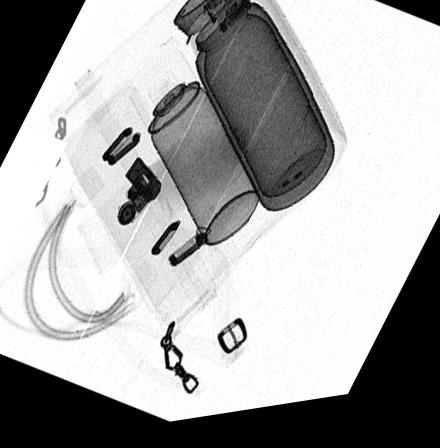Sprayer: (129, 55, 259, 252)
